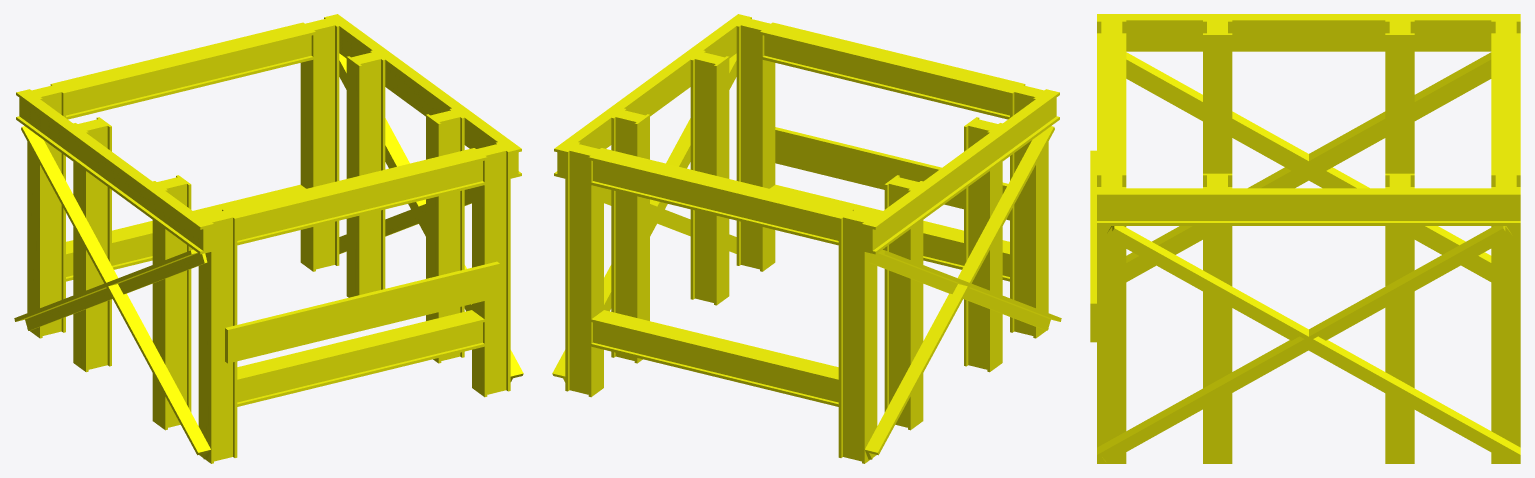
File: Elevator_Tunnel_03.fbx
3 renders of one model, left to right at view 1: azimuth 30°, elevation 25°; view 2: azimuth 150°, elevation 25°; view 3: azimuth 270°, elevation 25°, orthographic. The views are drawn at different scales.
Parts seen in each view (by area): view 1: Elevator_Tunnel_03; view 2: Elevator_Tunnel_03; view 3: Elevator_Tunnel_03.
Part boxes in pixels (bbox=[...]): Elevator_Tunnel_03: bbox=[14, 14, 523, 463]; Elevator_Tunnel_03: bbox=[552, 14, 1061, 463]; Elevator_Tunnel_03: bbox=[1090, 14, 1520, 463].
Size of the model in its own units: 0.2845 by 0.2 by 0.2831.
